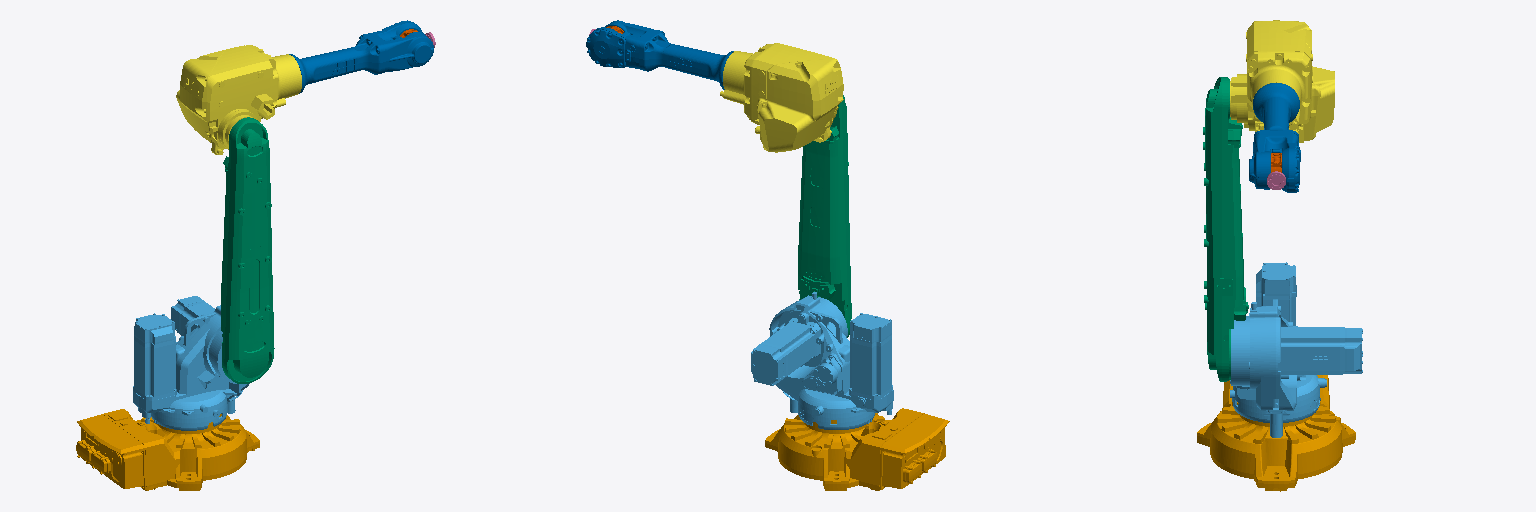
robot.urdf — IRB2600_12kg-185:
<?xml version="1.0" ?>
<robot name="IRB2600_12kg-185">

<link name="base_link">
  <inertial>
    <origin xyz="-0.09299244505879704 0.00040023906755372736 0.09590244830640034" rpy="0 0 0"/>
    <mass value="250.4884403422575"/>
    <inertia ixx="3.308396" iyy="6.826966" izz="8.611106" ixy="0.029678" iyz="0.002181" ixz="0.180461"/>
  </inertial>
  <visual>
    <origin xyz="0 0 0" rpy="0 0 0"/>
    <geometry>
      <mesh filename="package://IRB2600_12kg-185_description/meshes/base_link.stl" scale="0.001 0.001 0.001"/>
    </geometry>
    <material name="silver"/>
  </visual>
  <collision>
    <origin xyz="0 0 0" rpy="0 0 0"/>
    <geometry>
      <mesh filename="package://IRB2600_12kg-185_description/meshes/base_link.stl" scale="0.001 0.001 0.001"/>
    </geometry>
  </collision>
</link>

<link name="IRB2600_12kg-185_LINK1_CAD_rev02_v1_1">
  <inertial>
    <origin xyz="0.043083885652768904 0.007026630410738739 0.15972284536270456" rpy="0 0 0"/>
    <mass value="187.86725665499122"/>
    <inertia ixx="3.104491" iyy="4.749737" izz="4.49943" ixy="-0.075738" iyz="-0.046785" ixz="-0.326302"/>
  </inertial>
  <visual>
    <origin xyz="-0.0 0.0 -0.23" rpy="0 0 0"/>
    <geometry>
      <mesh filename="package://IRB2600_12kg-185_description/meshes/IRB2600_12kg-185_LINK1_CAD_rev02_v1_1.stl" scale="0.001 0.001 0.001"/>
    </geometry>
    <material name="silver"/>
  </visual>
  <collision>
    <origin xyz="-0.0 0.0 -0.23" rpy="0 0 0"/>
    <geometry>
      <mesh filename="package://IRB2600_12kg-185_description/meshes/IRB2600_12kg-185_LINK1_CAD_rev02_v1_1.stl" scale="0.001 0.001 0.001"/>
    </geometry>
  </collision>
</link>

<link name="IRB2600_12kg-185_LINK2_CAD_rev02_v1_1">
  <inertial>
    <origin xyz="6.157429664951919e-05 -0.032067744454000485 0.4139951965264645" rpy="0 0 0"/>
    <mass value="123.67875317396543"/>
    <inertia ixx="8.66843" iyy="8.820388" izz="0.379501" ixy="-2.3e-05" iyz="0.046036" ixz="0.002046"/>
  </inertial>
  <visual>
    <origin xyz="-0.15 0.1404 -0.445" rpy="0 0 0"/>
    <geometry>
      <mesh filename="package://IRB2600_12kg-185_description/meshes/IRB2600_12kg-185_LINK2_CAD_rev02_v1_1.stl" scale="0.001 0.001 0.001"/>
    </geometry>
    <material name="silver"/>
  </visual>
  <collision>
    <origin xyz="-0.15 0.1404 -0.445" rpy="0 0 0"/>
    <geometry>
      <mesh filename="package://IRB2600_12kg-185_description/meshes/IRB2600_12kg-185_LINK2_CAD_rev02_v1_1.stl" scale="0.001 0.001 0.001"/>
    </geometry>
  </collision>
</link>

<link name="IRB2600_12kg-185_LINK3_CAD_rev02_v1_1">
  <inertial>
    <origin xyz="0.04325811435517962 0.16175942191743298 0.07526273124689742" rpy="0 0 0"/>
    <mass value="185.64435614731826"/>
    <inertia ixx="2.301697" iyy="3.156452" izz="2.719429" ixy="0.061805" iyz="0.076342" ixz="-0.145259"/>
  </inertial>
  <visual>
    <origin xyz="-0.15 0.1478 -1.345" rpy="0 0 0"/>
    <geometry>
      <mesh filename="package://IRB2600_12kg-185_description/meshes/IRB2600_12kg-185_LINK3_CAD_rev02_v1_1.stl" scale="0.001 0.001 0.001"/>
    </geometry>
    <material name="silver"/>
  </visual>
  <collision>
    <origin xyz="-0.15 0.1478 -1.345" rpy="0 0 0"/>
    <geometry>
      <mesh filename="package://IRB2600_12kg-185_description/meshes/IRB2600_12kg-185_LINK3_CAD_rev02_v1_1.stl" scale="0.001 0.001 0.001"/>
    </geometry>
  </collision>
</link>

<link name="IRB2600_12kg-185_LINK4_CAD_rev04_v1_1">
  <inertial>
    <origin xyz="0.31280101664090953 0.0011968543750776148 0.0003121191301937998" rpy="0 0 0"/>
    <mass value="48.864516591374674"/>
    <inertia ixx="0.117498" iyy="1.400385" izz="1.428184" ixy="-0.011586" iyz="0.000123" ixz="-0.001339"/>
  </inertial>
  <visual>
    <origin xyz="-0.4375 0.0 -1.46" rpy="0 0 0"/>
    <geometry>
      <mesh filename="package://IRB2600_12kg-185_description/meshes/IRB2600_12kg-185_LINK4_CAD_rev04_v1_1.stl" scale="0.001 0.001 0.001"/>
    </geometry>
    <material name="silver"/>
  </visual>
  <collision>
    <origin xyz="-0.4375 0.0 -1.46" rpy="0 0 0"/>
    <geometry>
      <mesh filename="package://IRB2600_12kg-185_description/meshes/IRB2600_12kg-185_LINK4_CAD_rev04_v1_1.stl" scale="0.001 0.001 0.001"/>
    </geometry>
  </collision>
</link>

<link name="IRB2600_12kg-185_LINK5_CAD_rev03_v1_1">
  <inertial>
    <origin xyz="0.00023502616134241094 0.02047728152395953 0.0008927313576323481" rpy="0 0 0"/>
    <mass value="2.907776365322295"/>
    <inertia ixx="0.002453" iyy="0.004274" izz="0.002691" ixy="3e-06" iyz="-2e-06" ixz="4.7e-05"/>
  </inertial>
  <visual>
    <origin xyz="-0.945 0.0205 -1.46" rpy="0 0 0"/>
    <geometry>
      <mesh filename="package://IRB2600_12kg-185_description/meshes/IRB2600_12kg-185_LINK5_CAD_rev03_v1_1.stl" scale="0.001 0.001 0.001"/>
    </geometry>
    <material name="silver"/>
  </visual>
  <collision>
    <origin xyz="-0.945 0.0205 -1.46" rpy="0 0 0"/>
    <geometry>
      <mesh filename="package://IRB2600_12kg-185_description/meshes/IRB2600_12kg-185_LINK5_CAD_rev03_v1_1.stl" scale="0.001 0.001 0.001"/>
    </geometry>
  </collision>
</link>

<link name="IRB2600_12kg-185_LINK6_CAD_rev02_v1_1">
  <inertial>
    <origin xyz="0.021277501296827595 3.527954797865816e-05 -0.0002077564977258639" rpy="0 0 0"/>
    <mass value="0.38385347785024865"/>
    <inertia ixx="0.000151" iyy="0.000109" izz="0.000111" ixy="-0.0" iyz="-0.0" ixz="1e-06"/>
  </inertial>
  <visual>
    <origin xyz="-0.996 -0.0 -1.46" rpy="0 0 0"/>
    <geometry>
      <mesh filename="package://IRB2600_12kg-185_description/meshes/IRB2600_12kg-185_LINK6_CAD_rev02_v1_1.stl" scale="0.001 0.001 0.001"/>
    </geometry>
    <material name="silver"/>
  </visual>
  <collision>
    <origin xyz="-0.996 -0.0 -1.46" rpy="0 0 0"/>
    <geometry>
      <mesh filename="package://IRB2600_12kg-185_description/meshes/IRB2600_12kg-185_LINK6_CAD_rev02_v1_1.stl" scale="0.001 0.001 0.001"/>
    </geometry>
  </collision>
</link>

<joint name="j1" type="continuous">
  <origin xyz="0.0 0.0 0.23" rpy="0 0 0"/>
  <parent link="base_link"/>
  <child link="IRB2600_12kg-185_LINK1_CAD_rev02_v1_1"/>
  <axis xyz="0.0 0.0 -1.0"/>
</joint>

<joint name="j2" type="continuous">
  <origin xyz="0.15 -0.1404 0.215" rpy="0 0 0"/>
  <parent link="IRB2600_12kg-185_LINK1_CAD_rev02_v1_1"/>
  <child link="IRB2600_12kg-185_LINK2_CAD_rev02_v1_1"/>
  <axis xyz="0.0 -1.0 0.0"/>
</joint>

<joint name="j3" type="continuous">
  <origin xyz="0.0 -0.0074 0.9" rpy="0 0 0"/>
  <parent link="IRB2600_12kg-185_LINK2_CAD_rev02_v1_1"/>
  <child link="IRB2600_12kg-185_LINK3_CAD_rev02_v1_1"/>
  <axis xyz="0.0 1.0 0.0"/>
</joint>

<joint name="j4" type="continuous">
  <origin xyz="0.2875 0.1478 0.115" rpy="0 0 0"/>
  <parent link="IRB2600_12kg-185_LINK3_CAD_rev02_v1_1"/>
  <child link="IRB2600_12kg-185_LINK4_CAD_rev04_v1_1"/>
  <axis xyz="1.0 0.0 0.0"/>
</joint>

<joint name="j5" type="continuous">
  <origin xyz="0.5075 -0.0205 0.0" rpy="0 0 0"/>
  <parent link="IRB2600_12kg-185_LINK4_CAD_rev04_v1_1"/>
  <child link="IRB2600_12kg-185_LINK5_CAD_rev03_v1_1"/>
  <axis xyz="0.0 -1.0 0.0"/>
</joint>

<joint name="j6" type="continuous">
  <origin xyz="0.051 0.0205 0.0" rpy="0 0 0"/>
  <parent link="IRB2600_12kg-185_LINK5_CAD_rev03_v1_1"/>
  <child link="IRB2600_12kg-185_LINK6_CAD_rev02_v1_1"/>
  <axis xyz="1.0 0.0 0.0"/>
</joint>

</robot>

--- Facts derived from the render (not from the file) ---
3 views of the same robot in one strip: view 1: azimuth 30°, elevation 25°; view 2: azimuth 150°, elevation 25°; view 3: azimuth 270°, elevation 25° (orthographic).
Model IRB2600_12kg-185 with 7 links and 6 joints (6 continuous), rooted at base_link, posed all joints at 0.
Visible links, largest first — view 1: IRB2600_12kg-185_LINK2_CAD_rev02_v1_1, IRB2600_12kg-185_LINK1_CAD_rev02_v1_1, base_link, IRB2600_12kg-185_LINK3_CAD_rev02_v1_1, IRB2600_12kg-185_LINK4_CAD_rev04_v1_1; view 2: IRB2600_12kg-185_LINK1_CAD_rev02_v1_1, base_link, IRB2600_12kg-185_LINK3_CAD_rev02_v1_1, IRB2600_12kg-185_LINK2_CAD_rev02_v1_1, IRB2600_12kg-185_LINK4_CAD_rev04_v1_1; view 3: IRB2600_12kg-185_LINK1_CAD_rev02_v1_1, IRB2600_12kg-185_LINK2_CAD_rev02_v1_1, base_link, IRB2600_12kg-185_LINK3_CAD_rev02_v1_1, IRB2600_12kg-185_LINK4_CAD_rev04_v1_1.
Boxes of the visible links, x1=… form: IRB2600_12kg-185_LINK2_CAD_rev02_v1_1: x1=221, y1=117, x2=274, y2=383; IRB2600_12kg-185_LINK1_CAD_rev02_v1_1: x1=133, y1=296, x2=249, y2=430; base_link: x1=76, y1=409, x2=259, y2=490; IRB2600_12kg-185_LINK3_CAD_rev02_v1_1: x1=176, y1=45, x2=301, y2=154; IRB2600_12kg-185_LINK4_CAD_rev04_v1_1: x1=289, y1=20, x2=433, y2=93; IRB2600_12kg-185_LINK1_CAD_rev02_v1_1: x1=751, y1=292, x2=893, y2=429; base_link: x1=765, y1=408, x2=949, y2=490; IRB2600_12kg-185_LINK3_CAD_rev02_v1_1: x1=720, y1=43, x2=843, y2=152; IRB2600_12kg-185_LINK2_CAD_rev02_v1_1: x1=798, y1=95, x2=851, y2=337; IRB2600_12kg-185_LINK4_CAD_rev04_v1_1: x1=586, y1=20, x2=733, y2=89; IRB2600_12kg-185_LINK1_CAD_rev02_v1_1: x1=1230, y1=262, x2=1362, y2=437; IRB2600_12kg-185_LINK2_CAD_rev02_v1_1: x1=1203, y1=77, x2=1248, y2=381; base_link: x1=1197, y1=375, x2=1355, y2=491; IRB2600_12kg-185_LINK3_CAD_rev02_v1_1: x1=1230, y1=20, x2=1334, y2=142; IRB2600_12kg-185_LINK4_CAD_rev04_v1_1: x1=1249, y1=83, x2=1300, y2=192.
Bounding box of the posed robot: 1.43 × 0.5381 × 1.58 m (x, y, z).
Meshes: 7 distinct files referenced, 7 mesh visuals loaded (7 binary STL).
